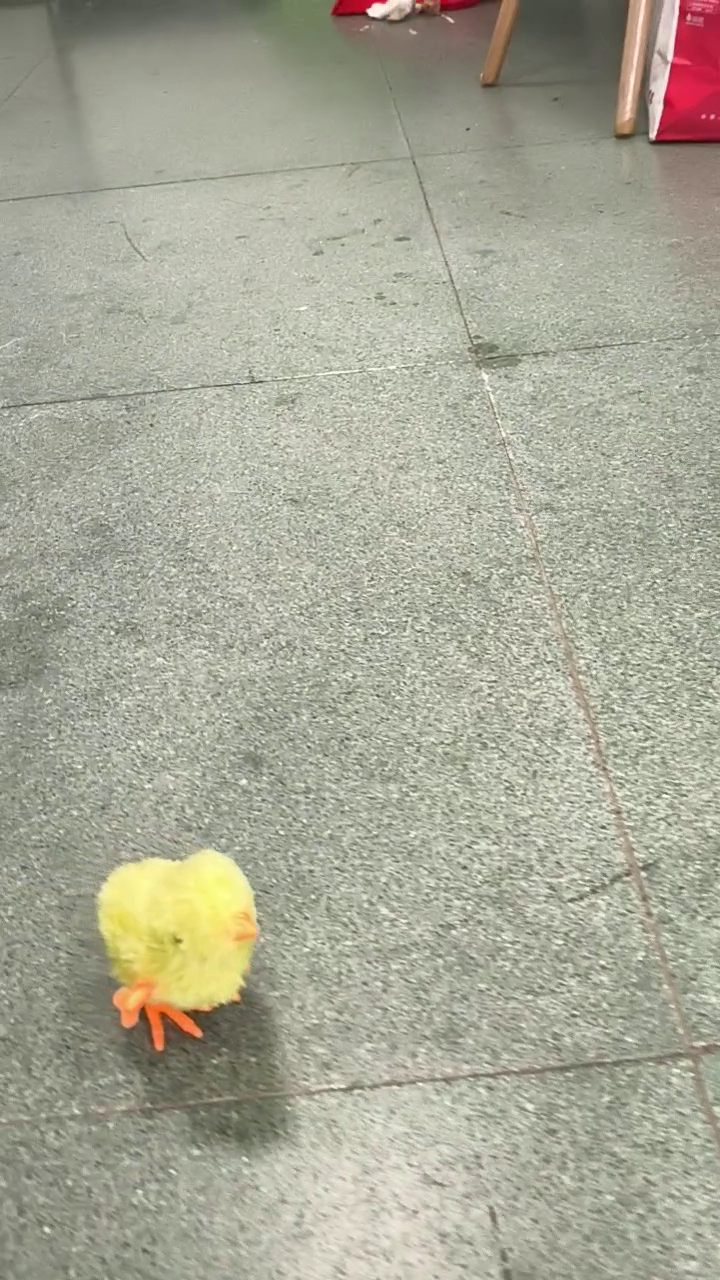yellow chicken: (89, 843, 268, 1058)
